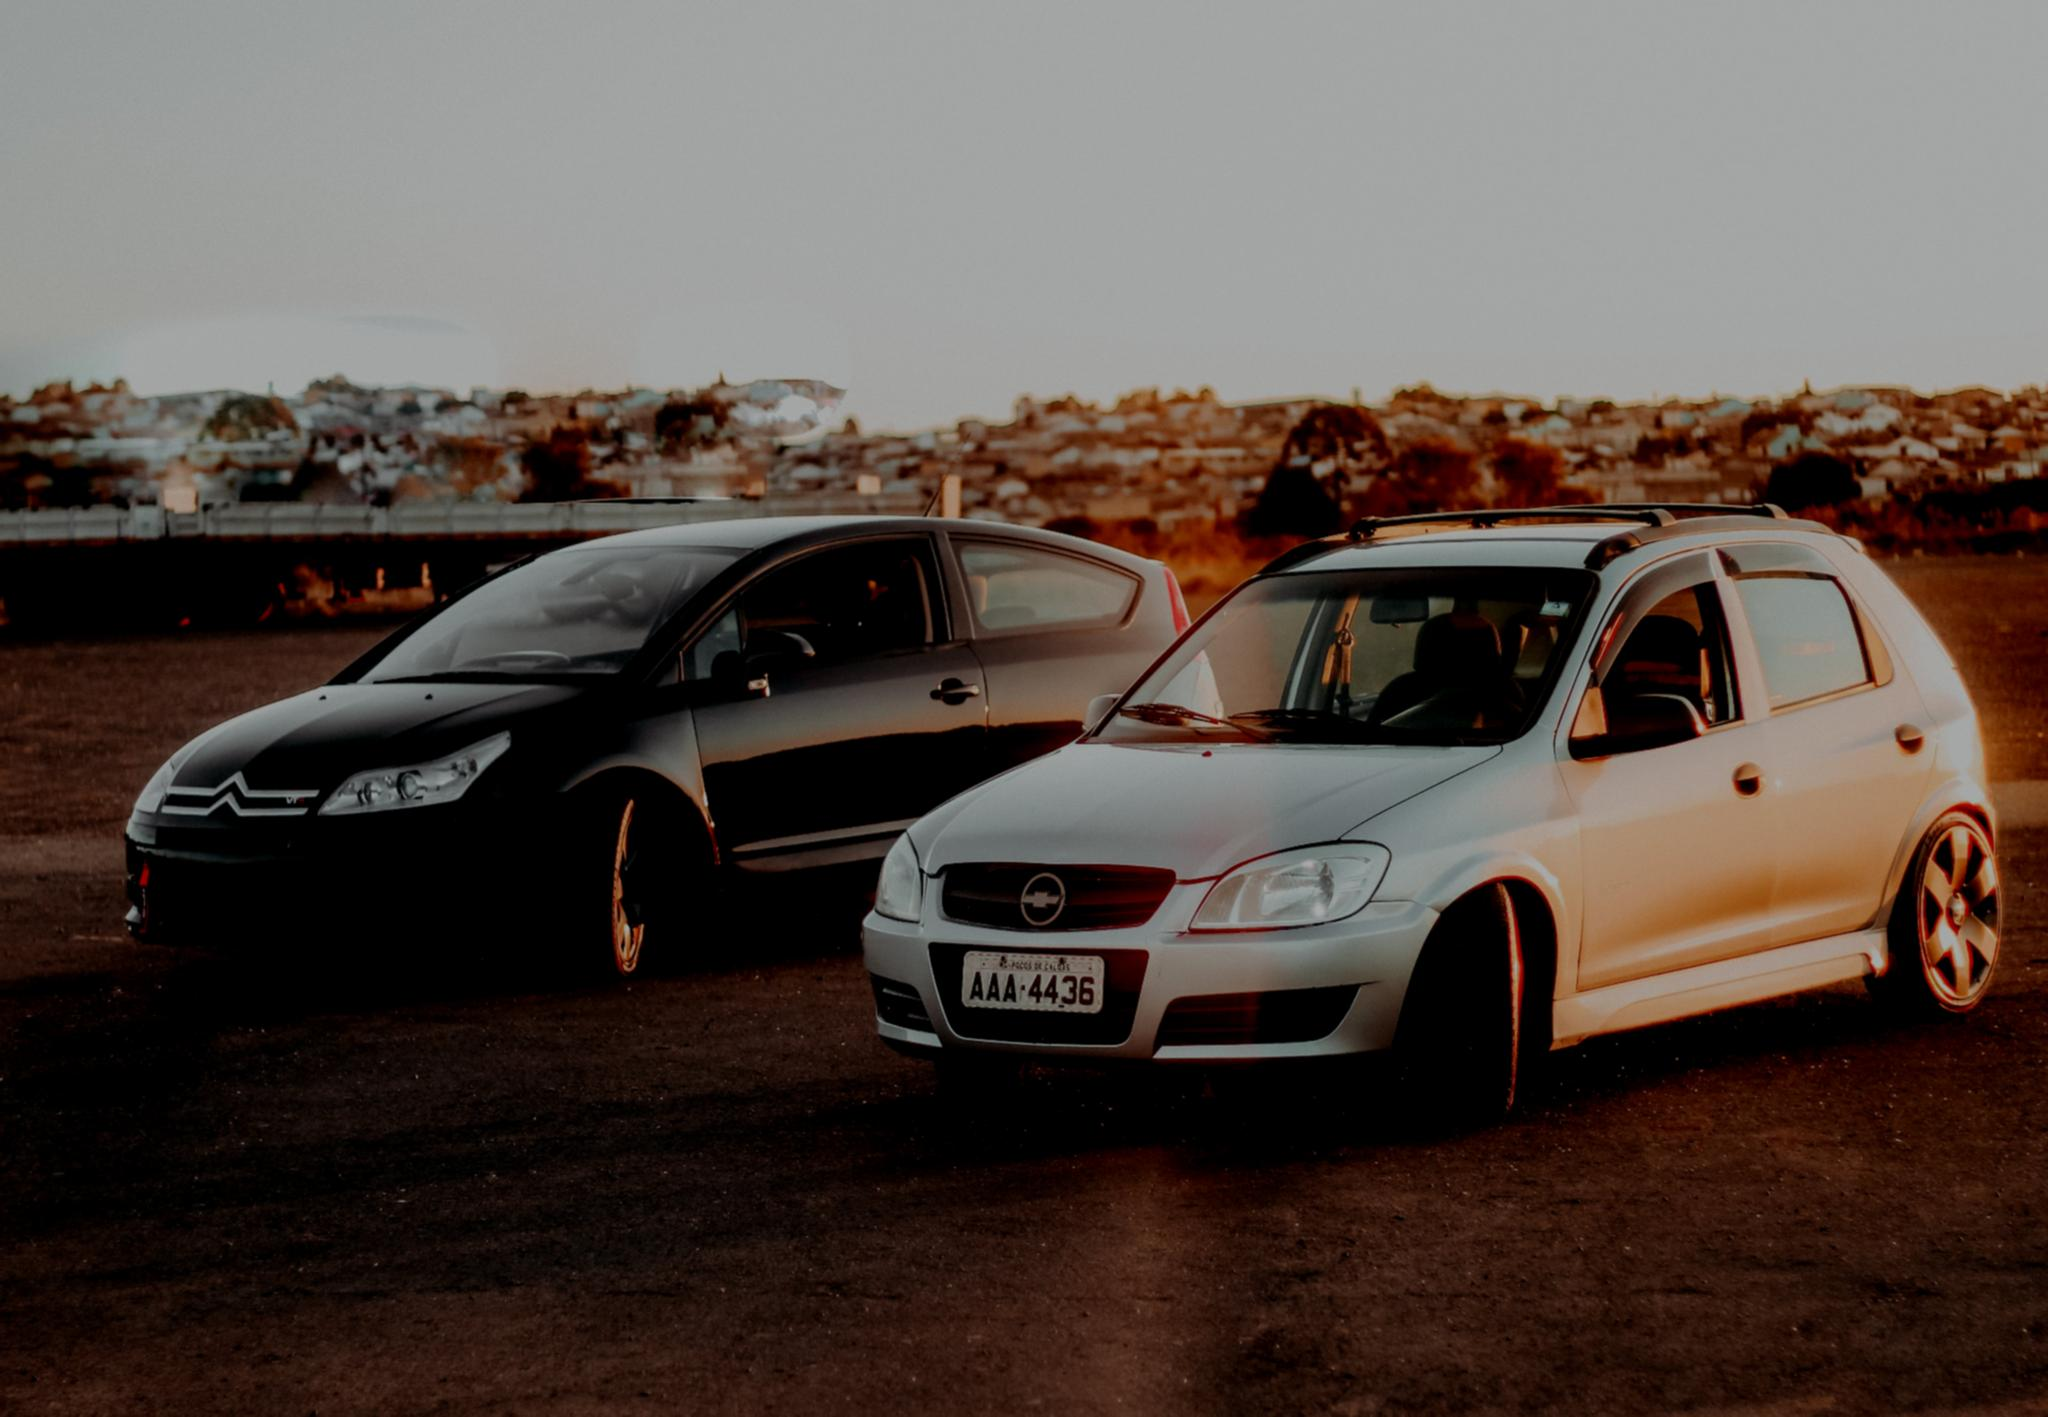Citroen: (198, 759, 265, 834)
chevrolet: (999, 865, 1080, 933)
